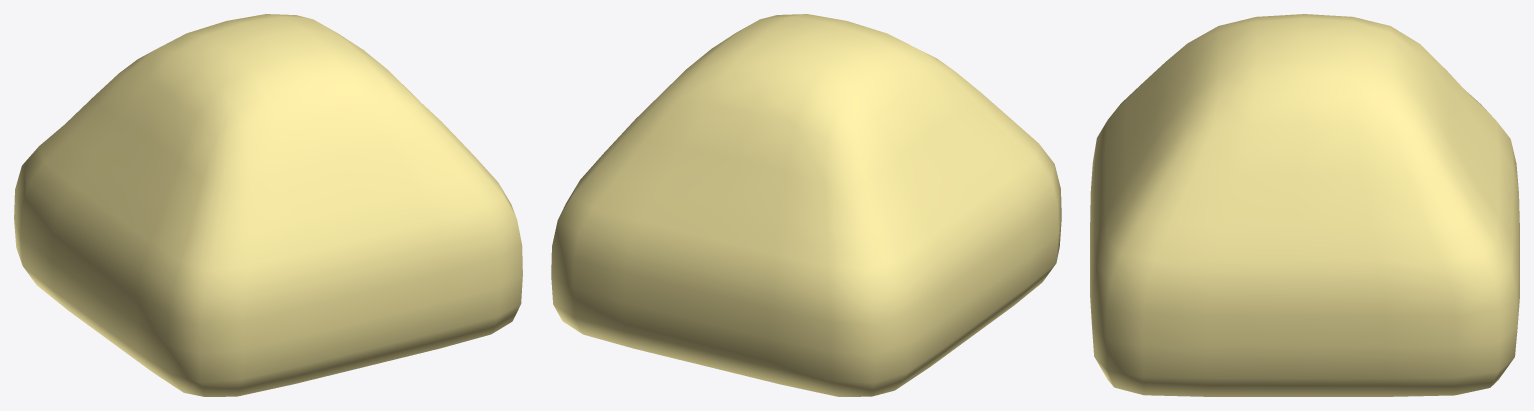
File: Chocwhite_01.fbx
3 renders of one model, left to right at view 1: azimuth 30°, elevation 25°; view 2: azimuth 150°, elevation 25°; view 3: azimuth 270°, elevation 25°, orthographic. The views are drawn at different scales.
Visible parts, largest first — view 1: Chocwhite_01_LOD0; view 2: Chocwhite_01_LOD0; view 3: Chocwhite_01_LOD0.
Boxes of the visible parts, x1=… form: Chocwhite_01_LOD0: x1=14, y1=14, x2=522, y2=396; Chocwhite_01_LOD0: x1=551, y1=14, x2=1061, y2=396; Chocwhite_01_LOD0: x1=1090, y1=14, x2=1519, y2=396.
Size of what is drawn, in the model's own units: 285 by 212 by 285.
